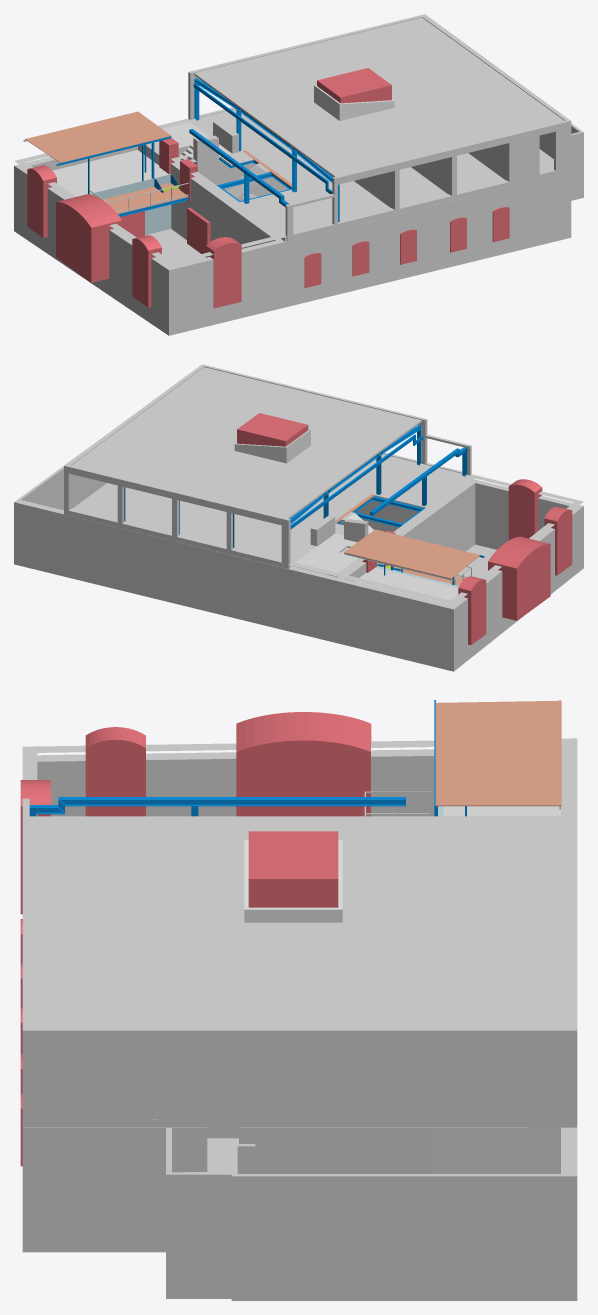
File: levels-and-stairs-006.glb
The picture shows the model from 3 angles, top to bottom: view 1: azimuth 30°, elevation 25°; view 2: azimuth 150°, elevation 25°; view 3: azimuth 270°, elevation 25°; orthographic projection. The views are drawn at different scales.
Parts seen in each view (by area): view 1: og2, Roof Floor, og3_neo, floor-og3, Window.008, Plane Meetroom Auditorium.001, Plane Meetroom Auditorium, OG 3.002, og3_inner, Window.005, Cube.020, Window.006 (+19 smaller); view 2: og2, Roof Floor, floor-og3, og3_neo, Window.008, Plane Meetroom Auditorium.001, OG 3.002, Window.005, Cube.020, Plane Meetroom Auditorium, Window.006, floor og3 toilet (+7 smaller); view 3: Roof Floor, og2, og3_neo, Plane Meetroom Auditorium.001, Window.008, Cube.020, Window.007, Cube.018, OG 3.002, Window Frame, Plane Meetroom Auditorium, Window.005 (+1 smaller).
Part boxes in pixels (bbox=[...]): og2: bbox=[14, 123, 583, 335]; Roof Floor: bbox=[194, 17, 564, 176]; og3_neo: bbox=[188, 14, 571, 241]; floor-og3: bbox=[197, 111, 553, 241]; Window.008: bbox=[56, 194, 122, 282]; Plane Meetroom Auditorium.001: bbox=[25, 111, 170, 162]; Plane Meetroom Auditorium: bbox=[53, 150, 170, 196]; OG 3.002: bbox=[14, 109, 553, 265]; og3_inner: bbox=[354, 143, 507, 208]; Window.005: bbox=[206, 237, 241, 308]; Cube.020: bbox=[317, 68, 391, 103]; Window.006: bbox=[27, 165, 56, 237]; og2: bbox=[14, 466, 583, 671]; Roof Floor: bbox=[64, 367, 421, 522]; floor-og3: bbox=[73, 455, 467, 559]; og3_neo: bbox=[64, 364, 471, 568]; Window.008: bbox=[488, 536, 550, 620]; Plane Meetroom Auditorium.001: bbox=[344, 529, 480, 578]; OG 3.002: bbox=[71, 454, 583, 604]; Window.005: bbox=[508, 479, 542, 540]; Cube.020: bbox=[237, 413, 308, 446]; Plane Meetroom Auditorium: bbox=[355, 566, 458, 604]; Window.006: bbox=[458, 576, 486, 644]; floor og3 toilet: bbox=[295, 533, 357, 572]; Roof Floor: bbox=[29, 816, 577, 1034]; og2: bbox=[22, 749, 577, 1300]; og3_neo: bbox=[22, 798, 577, 1127]; Plane Meetroom Auditorium.001: bbox=[435, 700, 561, 806]; Window.008: bbox=[236, 712, 371, 816]; Cube.020: bbox=[248, 831, 338, 907]; Window.007: bbox=[85, 727, 145, 816]; Cube.018: bbox=[37, 797, 405, 814]; OG 3.002: bbox=[22, 738, 577, 1119]; Window Frame: bbox=[244, 840, 342, 922]; Plane Meetroom Auditorium: bbox=[439, 806, 560, 816]; Window.005: bbox=[20, 780, 50, 914].
Bounding box in the file's own units: 35.01 × 9.98 × 18.68.
